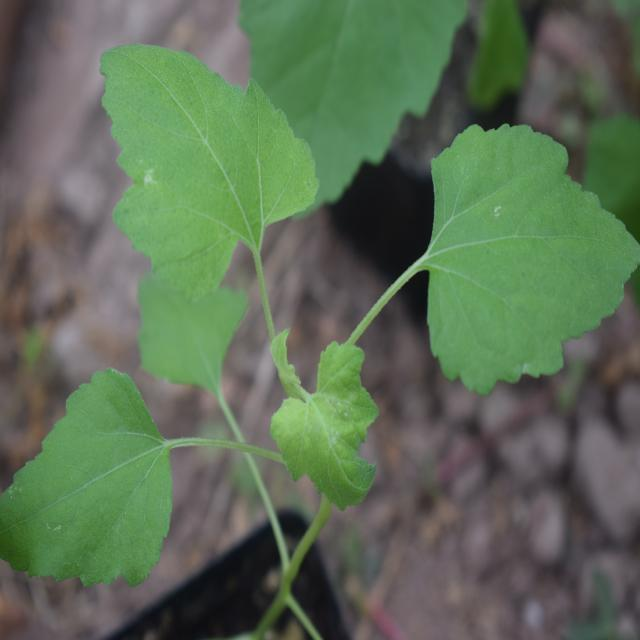cocklebur: (0, 41, 612, 534)
